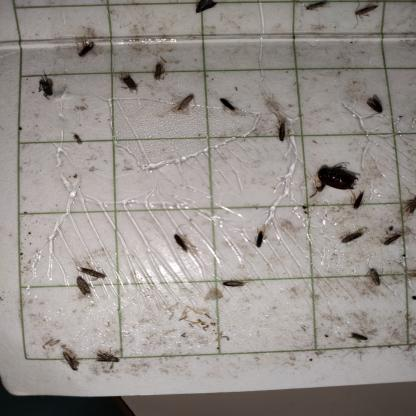prays_oleae: (166, 225, 193, 268), (337, 221, 369, 255), (75, 29, 98, 74), (398, 178, 416, 230), (271, 112, 291, 158), (60, 344, 84, 381), (218, 268, 247, 298), (77, 260, 110, 286), (383, 218, 406, 254), (216, 88, 239, 123), (368, 258, 386, 301), (344, 320, 367, 353), (350, 4, 380, 29), (33, 72, 56, 104), (98, 344, 124, 372), (364, 84, 384, 118), (153, 45, 167, 91), (118, 71, 139, 101), (253, 224, 271, 259), (175, 90, 196, 118), (74, 277, 93, 306), (352, 187, 364, 212)
